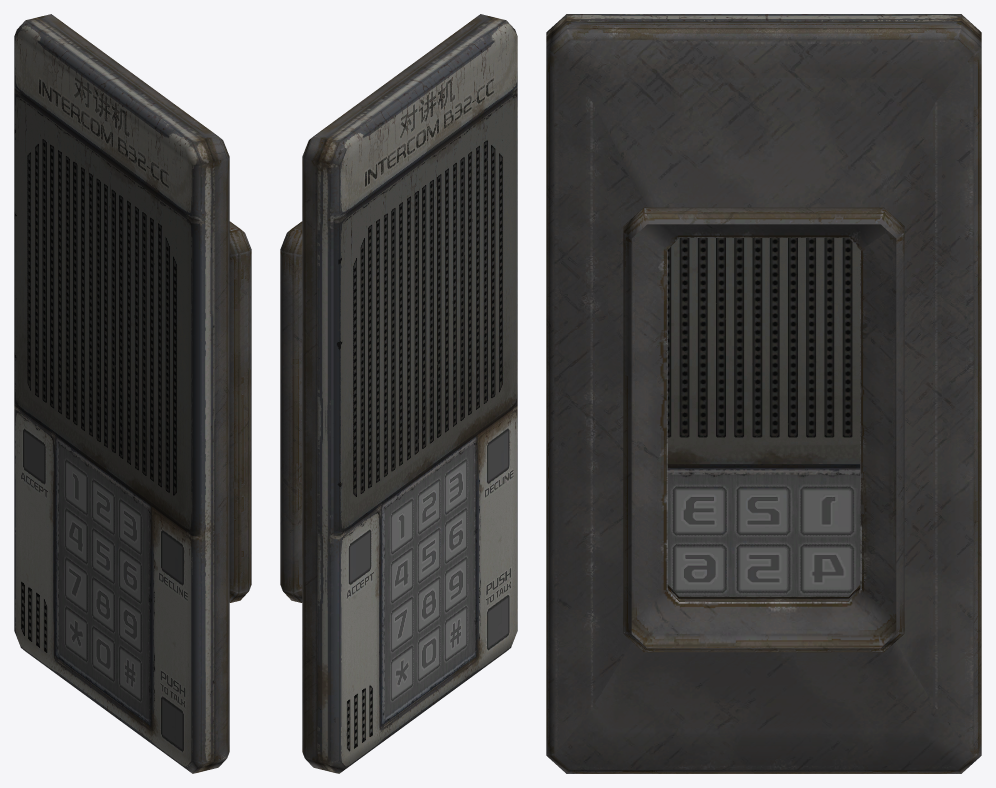
The model's file is intercom.dae.
3 views of the same model, side by side, from view 1: azimuth 30°, elevation 25°; view 2: azimuth 150°, elevation 25°; view 3: azimuth 270°, elevation 25° (orthographic). The views are drawn at different scales.
Visible parts, largest first — view 1: intercom_Mesh; view 2: intercom_Mesh; view 3: intercom_Mesh.
Part boxes in pixels (bbox=[...]): intercom_Mesh: bbox=[14, 14, 251, 773]; intercom_Mesh: bbox=[280, 14, 517, 773]; intercom_Mesh: bbox=[546, 14, 981, 773].
Size of the model in its own units: 0.1067 by 0.6958 by 0.3687.
